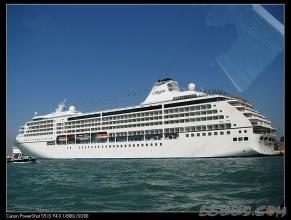youlun: (12, 71, 283, 161)
